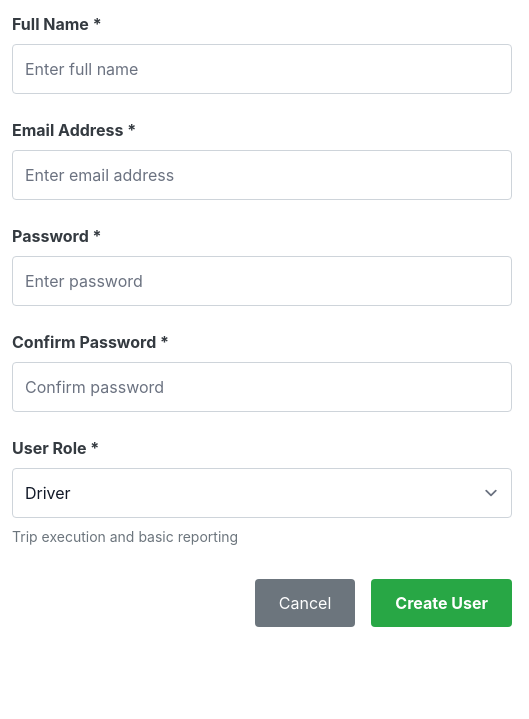
UserForm Component › Create Mode › validates required fields
The width and height of the screenshot is (529, 719).
Click the button "Create User" at (442, 603), box x1=371 y1=579 x2=512 y2=627
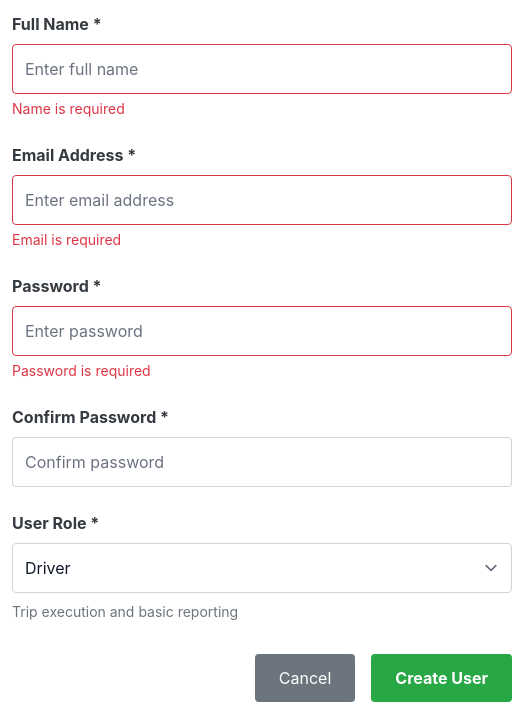
Now the text "Name is required" is shown, box x1=12 y1=100 x2=125 y2=117
Now the text "Email is required" is shown, box x1=12 y1=231 x2=121 y2=248
Now the text "Password is required" is shown, box x1=12 y1=362 x2=151 y2=379
